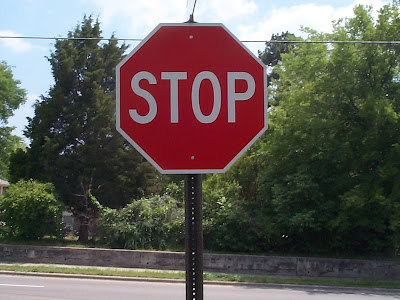stop: (122, 30, 263, 163)
